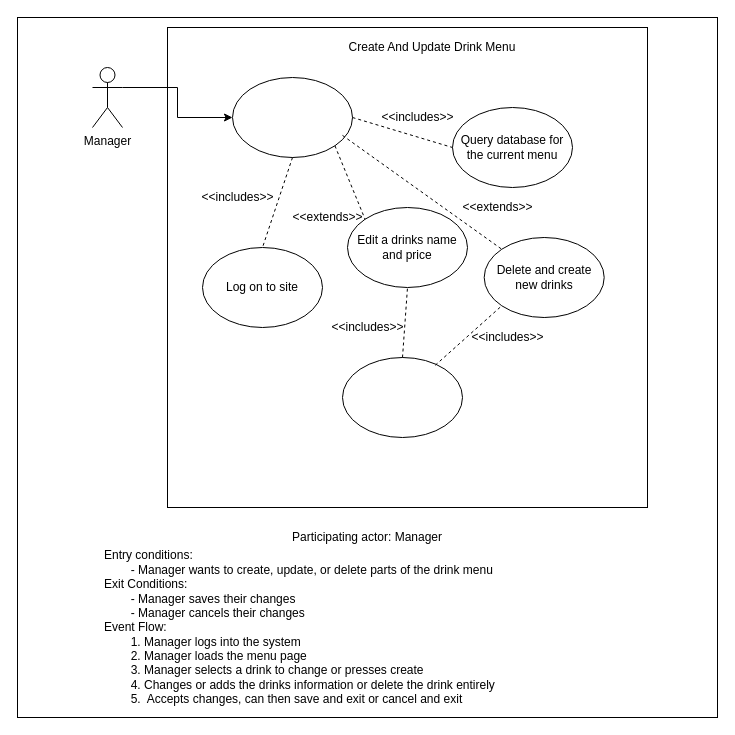
Some shapes in this 735 by 735 pixel diagram are drawn without their labels. The shapes that lost their labels are listed below. From the top down, each one's centre as x and y in pixels, then its label:
point 292,117: Edit the contents of the drink menu
point 402,397: Update database of menu
